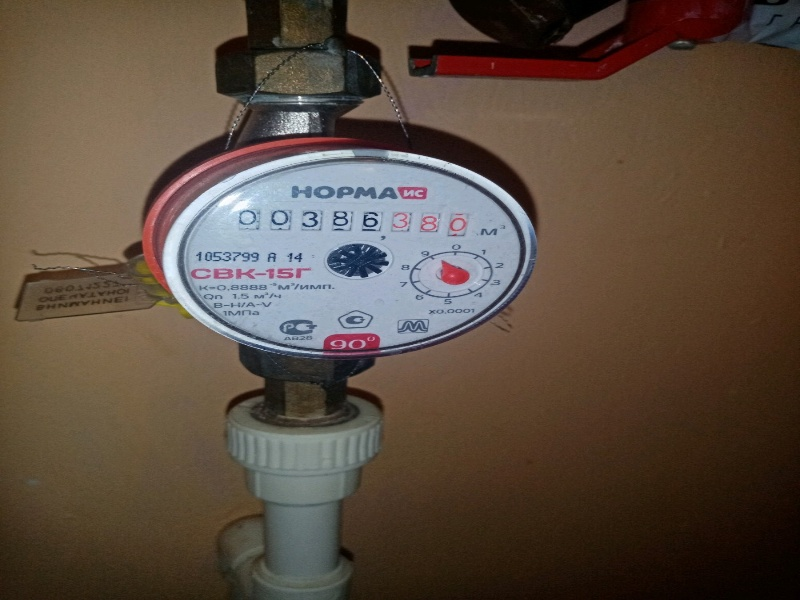meter: (234, 204, 477, 242)
